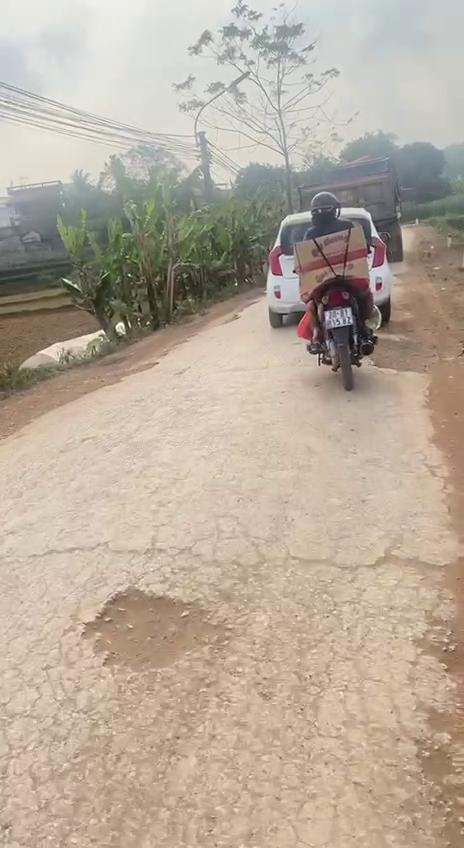pothole: (80, 585, 234, 678)
